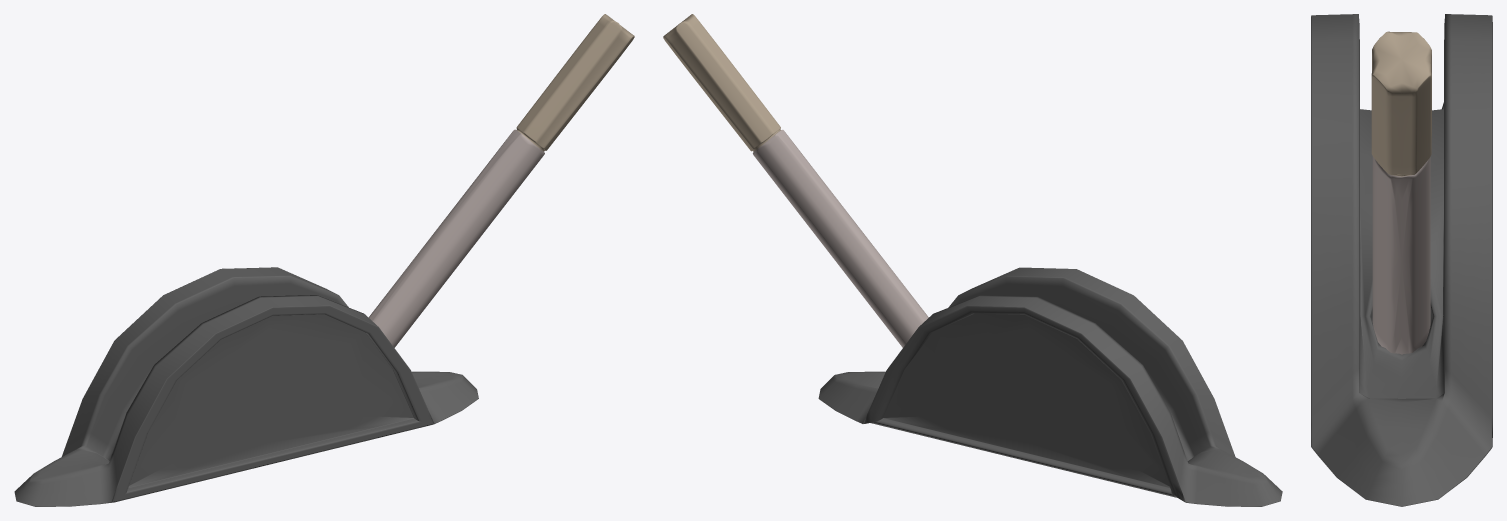
The model's file is Lever2.fbx.
3 renders of one model, left to right at view 1: azimuth 30°, elevation 25°; view 2: azimuth 150°, elevation 25°; view 3: azimuth 270°, elevation 25°, orthographic. The views are drawn at different scales.
Parts seen in each view (by area): view 1: pCylinder2, pCube5; view 2: pCylinder2, pCube5; view 3: pCylinder2, pCube5.
Boxes of the visible parts, x1=… form: pCylinder2: x1=14, y1=267, x2=478, y2=506; pCube5: x1=368, y1=14, x2=634, y2=347; pCylinder2: x1=818, y1=267, x2=1282, y2=506; pCube5: x1=663, y1=14, x2=928, y2=347; pCylinder2: x1=1311, y1=14, x2=1492, y2=506; pCube5: x1=1371, y1=31, x2=1431, y2=354.
Size of the model in its own units: 1.09 by 0.5763 by 0.162.
